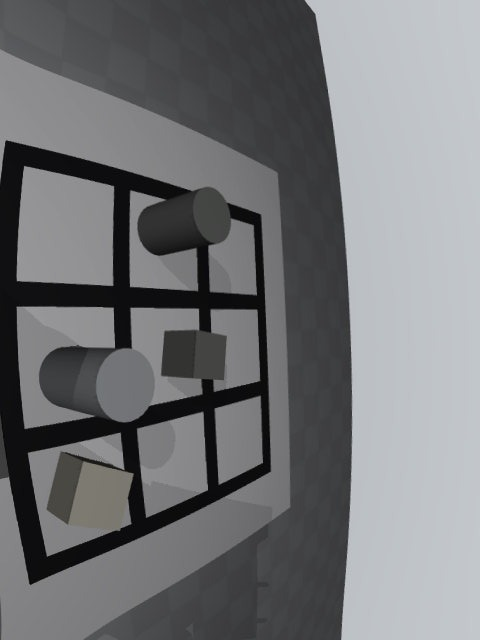can: (39, 347, 155, 423)
cube: (161, 329, 227, 380)
cylinder: (137, 187, 231, 256)
foam: (47, 452, 134, 531)
